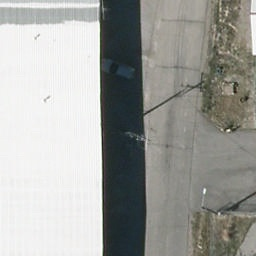car: (98, 60, 140, 77)
